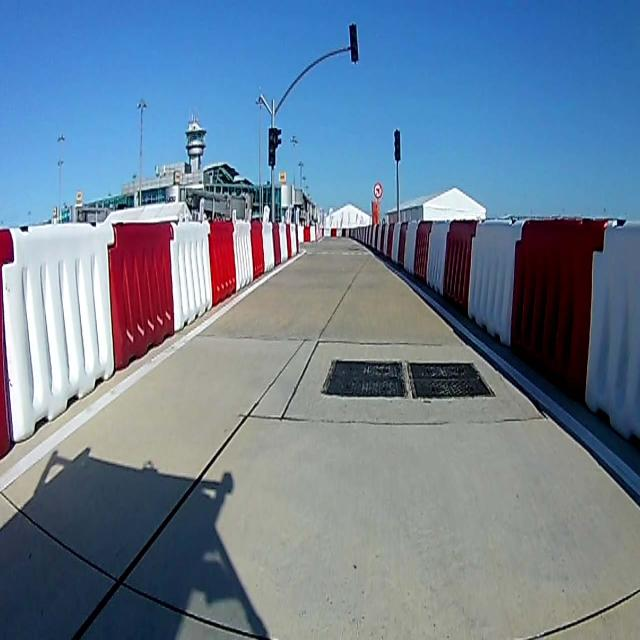soladonulmez: (372, 182, 382, 198)
